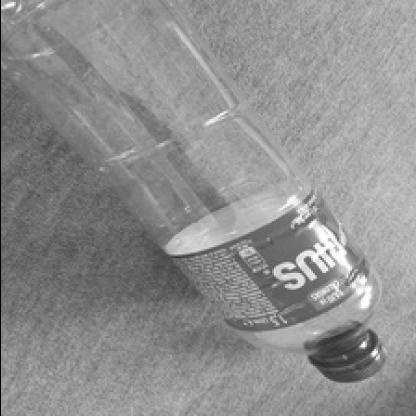plastic_bottles: (0, 0, 390, 387)
